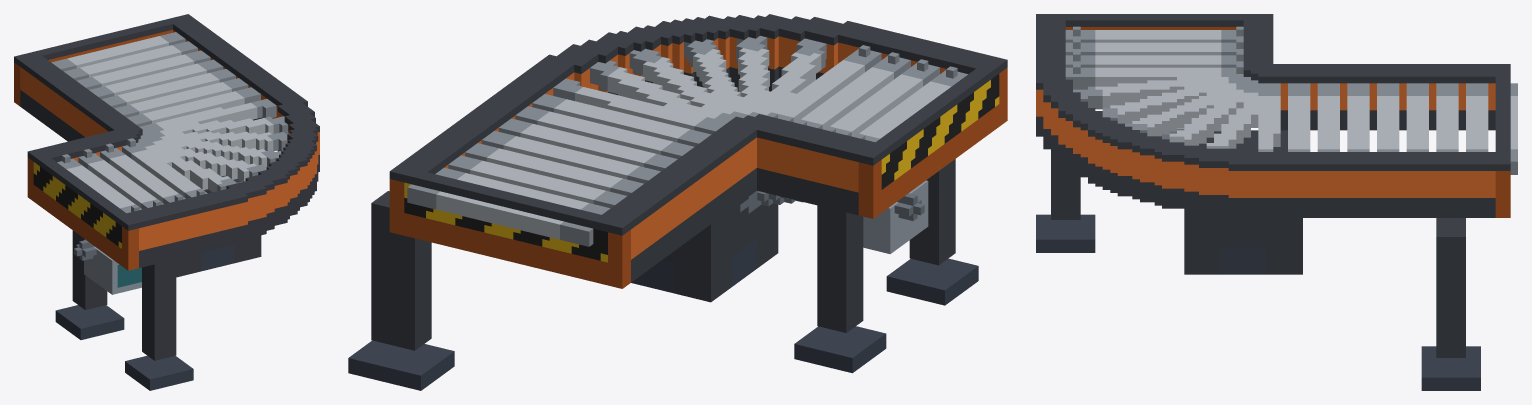
The model's file is conveyor_corner.obj.
3 views of the same model, side by side, from view 1: azimuth 30°, elevation 25°; view 2: azimuth 150°, elevation 25°; view 3: azimuth 270°, elevation 25° (orthographic). The views are drawn at different scales.
Parts seen in each view (by area): view 1: conveyor_corner; view 2: conveyor_corner; view 3: conveyor_corner.
Boxes of the visible parts, x1,y1,x2,y2 form: conveyor_corner: [14, 14, 319, 390]; conveyor_corner: [348, 14, 1007, 390]; conveyor_corner: [1036, 14, 1517, 390].
Bounding box in the file's own units: 1.75 × 0.9375 × 2.03.
